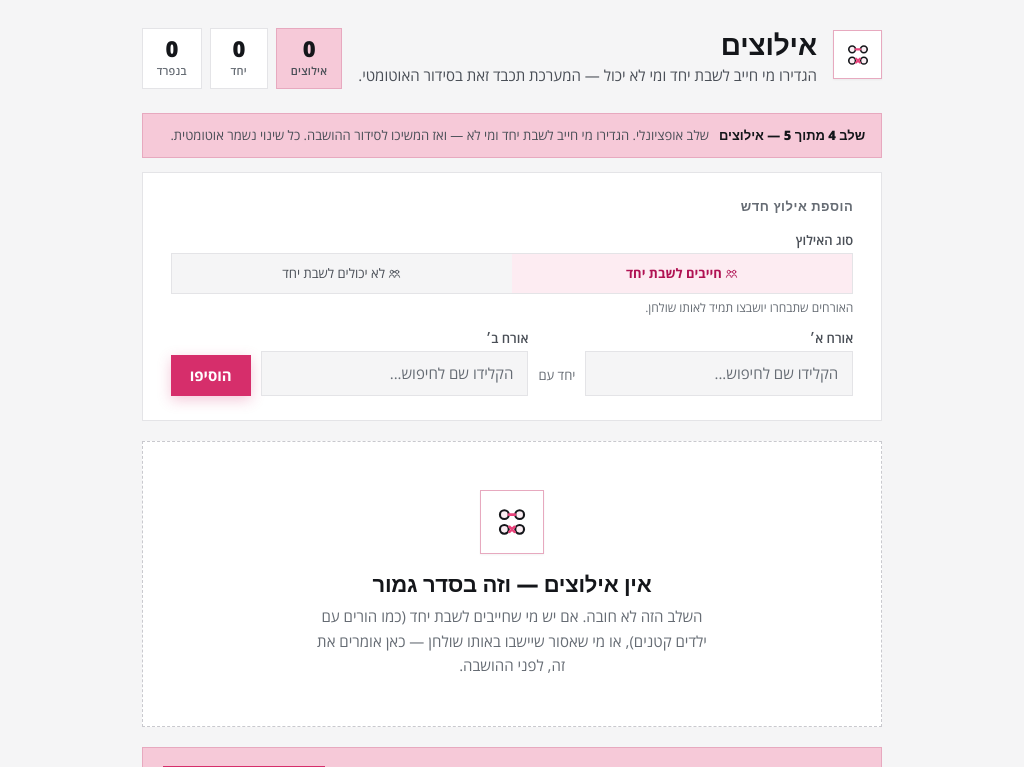
Test: guest search in constraints › says how many more there are past ten
Type "כהן" into the dropdown named "אורח א׳" at (717, 373), box 592,352 -> 842,395
(page scrolled)
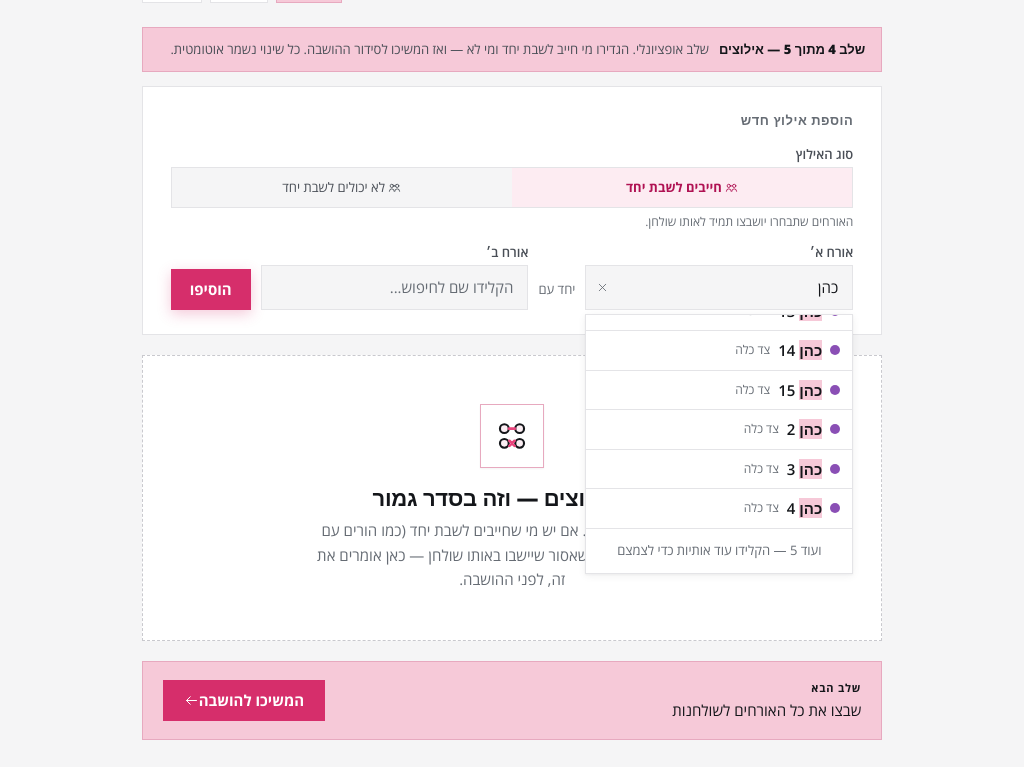
Check: the text "ועוד 5 — הקלידו עוד אותיות כדי לצמצם" is shown, box 586,528 -> 852,572
